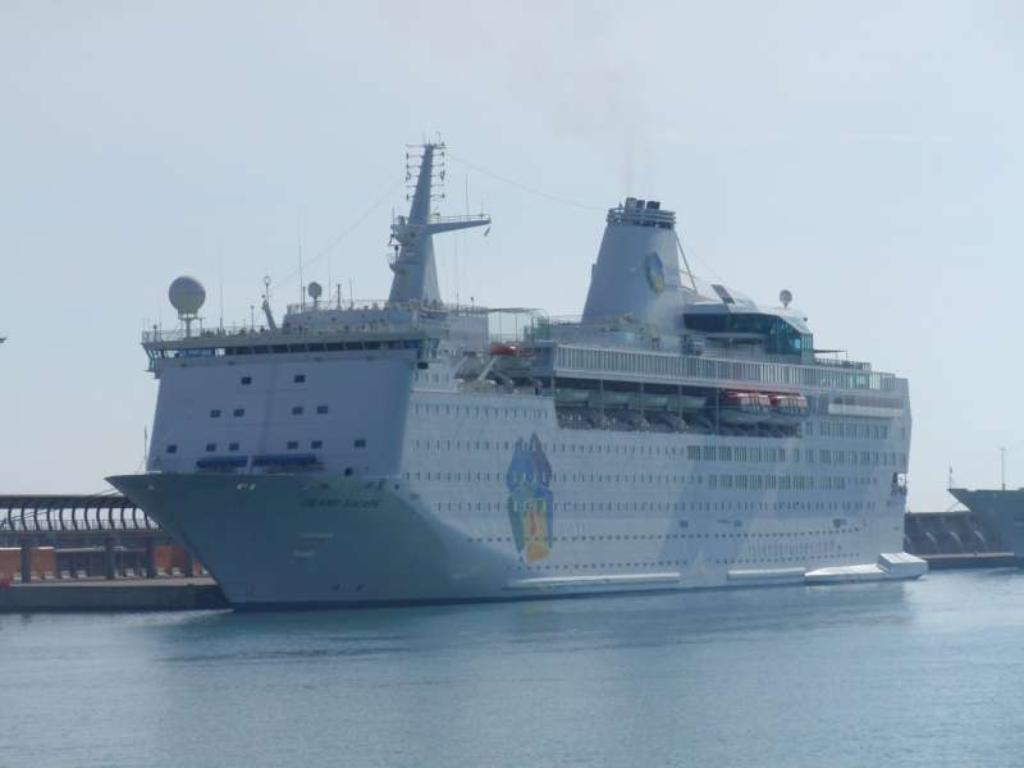PassengerShip: (88, 126, 950, 598)
